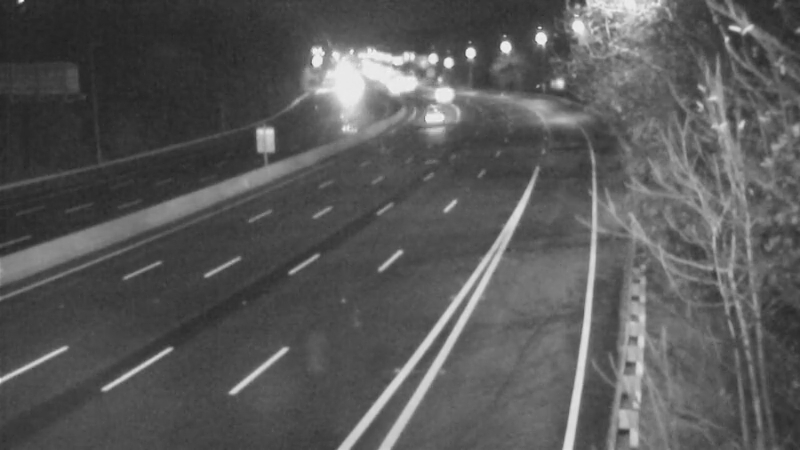vehicle: (415, 72, 465, 122), (408, 91, 458, 141)
